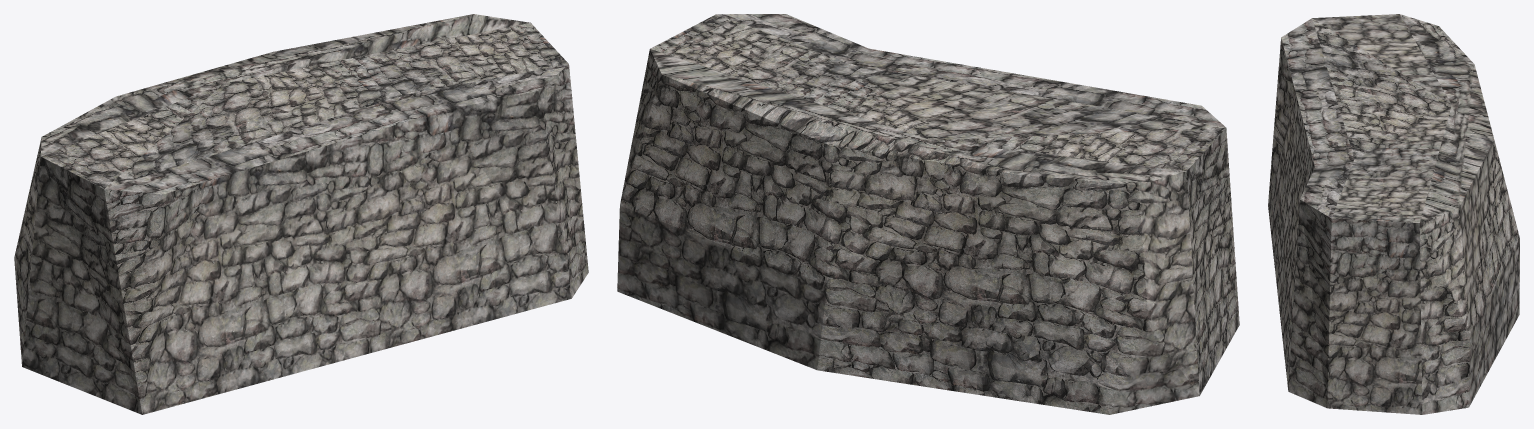
File: StoneWall_2_LOD4.fbx
The picture shows the model from 3 angles, left to right: view 1: azimuth 30°, elevation 25°; view 2: azimuth 150°, elevation 25°; view 3: azimuth 270°, elevation 25°; orthographic projection. The views are drawn at different scales.
Parts seen in each view (by area): view 1: Stone; view 2: Stone; view 3: Stone.
Boxes of the visible parts, x1,y1,x2,y2 form: Stone: (14,14,588,414); Stone: (617,14,1239,414); Stone: (1268,14,1519,414).
Bounding box in the file's own units: 1473 × 691 × 556.
1 material, 1 textured.
